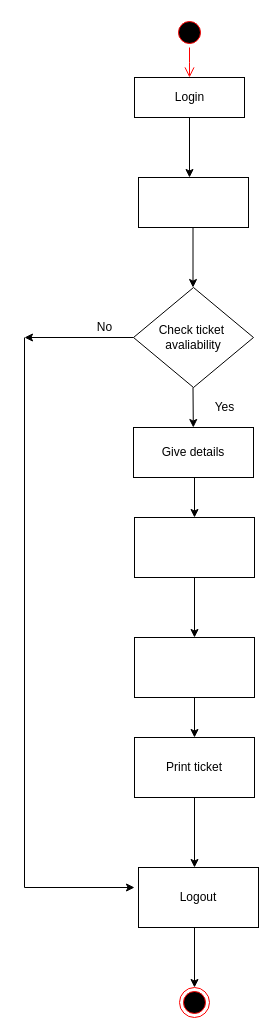
Image size: 276x1035. Some labels were removed from this diagram. Each missing label, with the centre of its shape:
Book ticket: the point at 194,547
Make payment: the point at 194,667
Search trains: the point at 193,202
